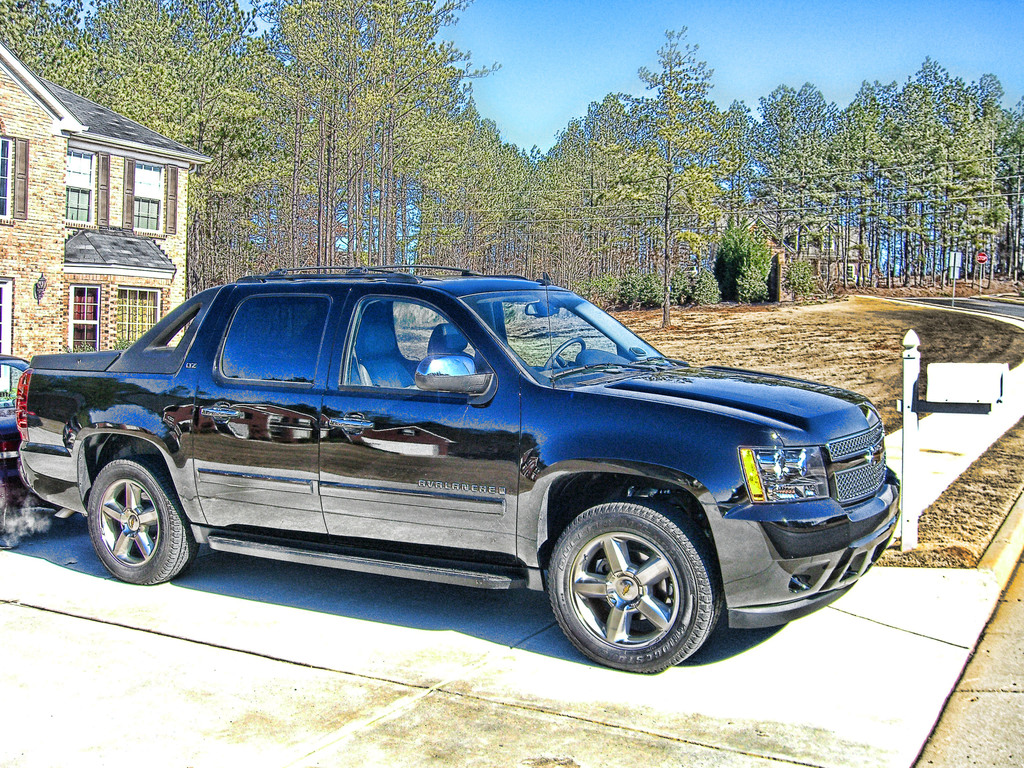Car: (15, 261, 908, 668), (0, 356, 28, 515)
